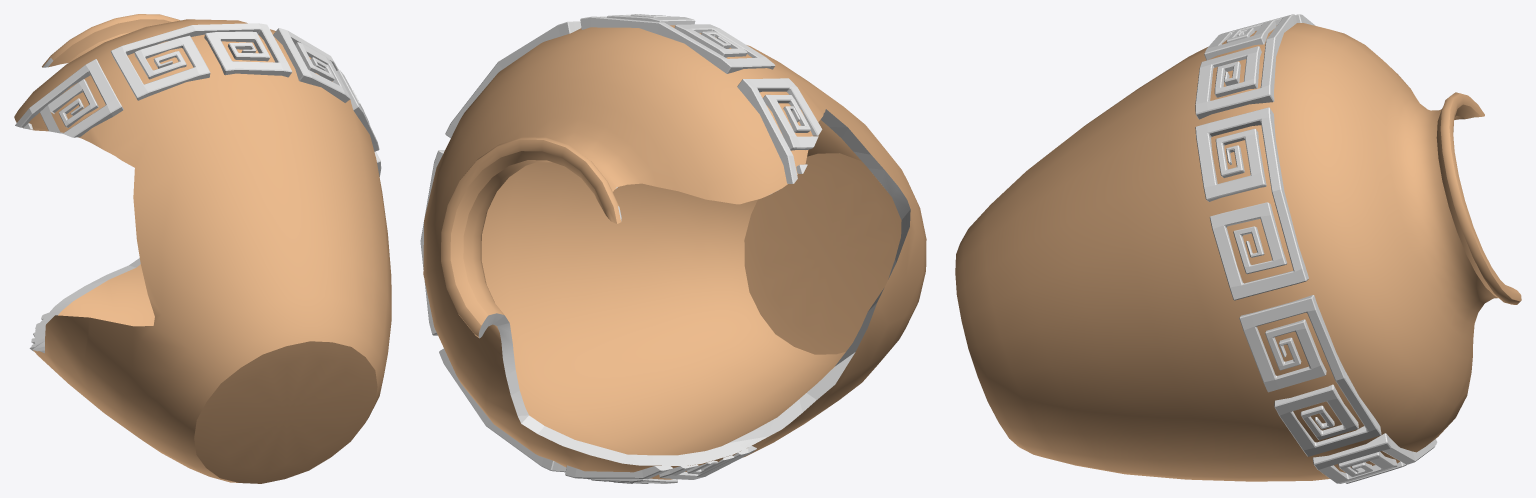
Rendered from vasebroken01.fbx.
3 renders of one model, left to right at view 1: azimuth 30°, elevation 25°; view 2: azimuth 150°, elevation 25°; view 3: azimuth 270°, elevation 25°, orthographic. The views are drawn at different scales.
Visible parts, largest first — view 1: brokenvase; view 2: brokenvase; view 3: brokenvase.
Boxes of the visible parts, x1,y1,x2,y2 form: brokenvase: [14, 14, 391, 483]; brokenvase: [420, 14, 926, 483]; brokenvase: [955, 14, 1521, 483].
Bounding box in the file's own units: 377 × 397 × 474.
